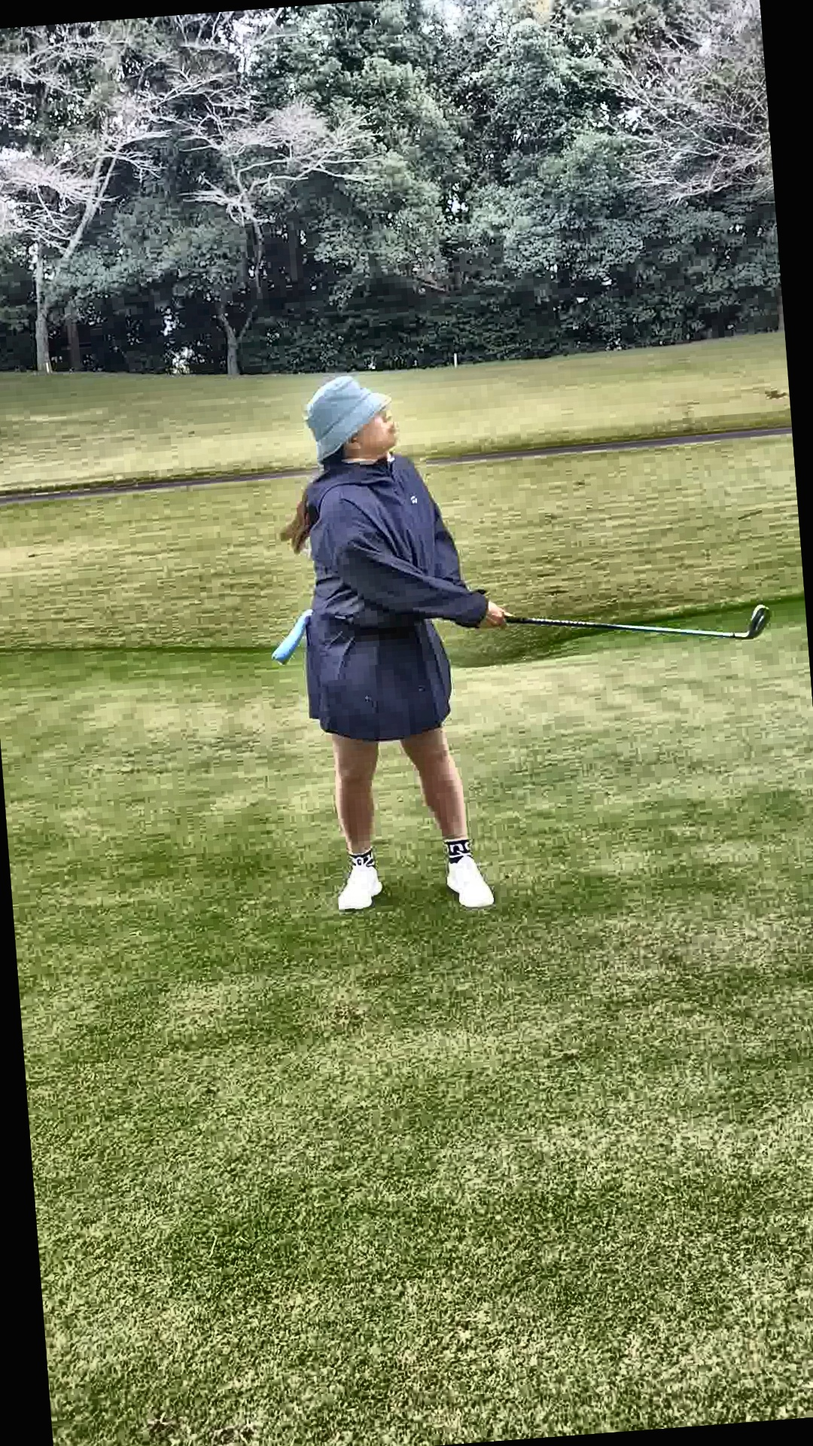clubhead: (708, 539, 789, 711)
